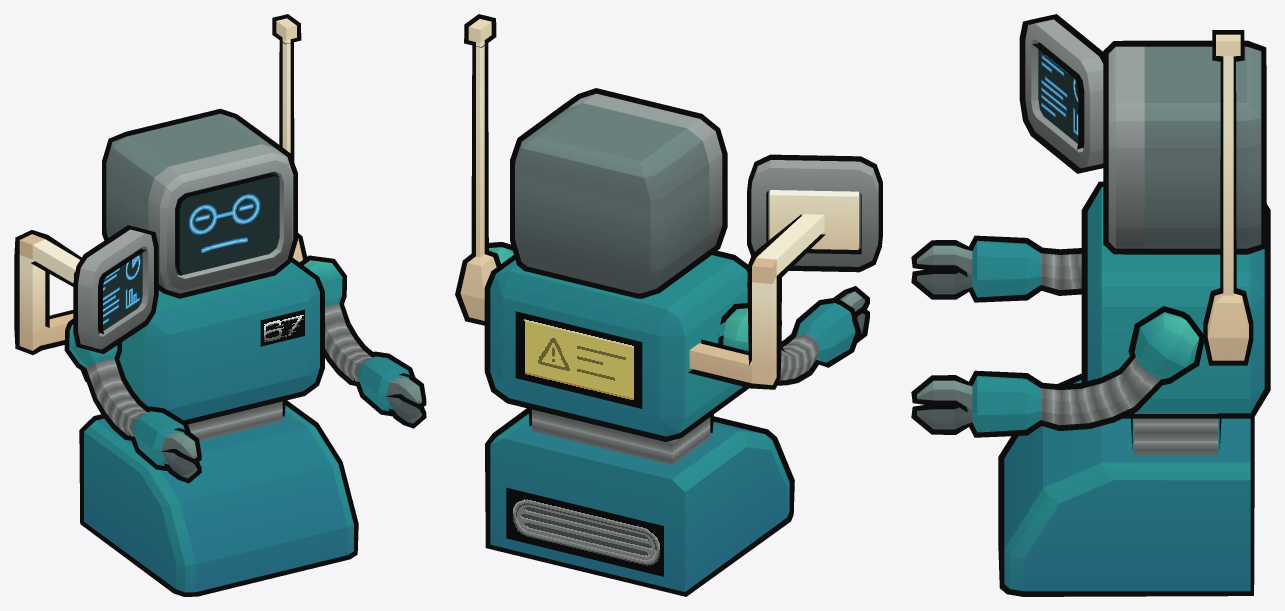
The model's file is bot_server.glb.
3 views of the same model, side by side, from view 1: azimuth 30°, elevation 25°; view 2: azimuth 150°, elevation 25°; view 3: azimuth 270°, elevation 25° (orthographic). The views are drawn at different scales.
Visible parts, largest first — view 1: bot_server; view 2: bot_server; view 3: bot_server.
Part boxes in pixels (x1,y1,x2,y2): bot_server: [14, 14, 426, 596]; bot_server: [455, 14, 882, 596]; bot_server: [911, 14, 1270, 596].
Bounding box in the file's own units: 2.22 × 3.06 × 1.74.
1 material, 1 textured.
